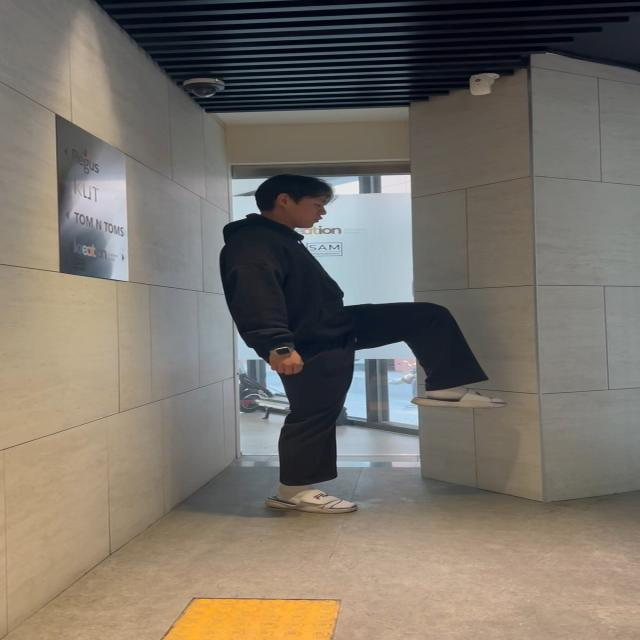knee: (351, 306, 512, 411)
